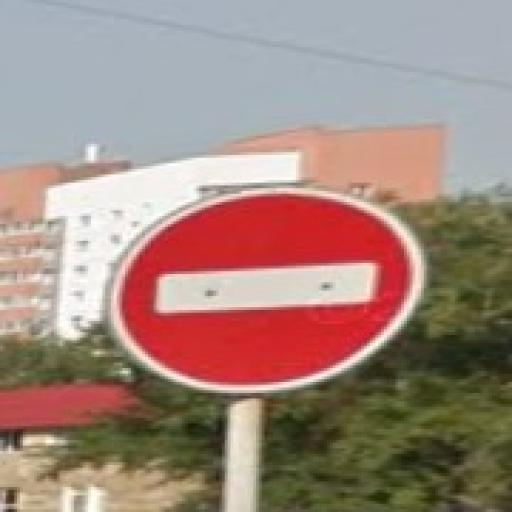traffic_sign: (106, 186, 431, 397)
